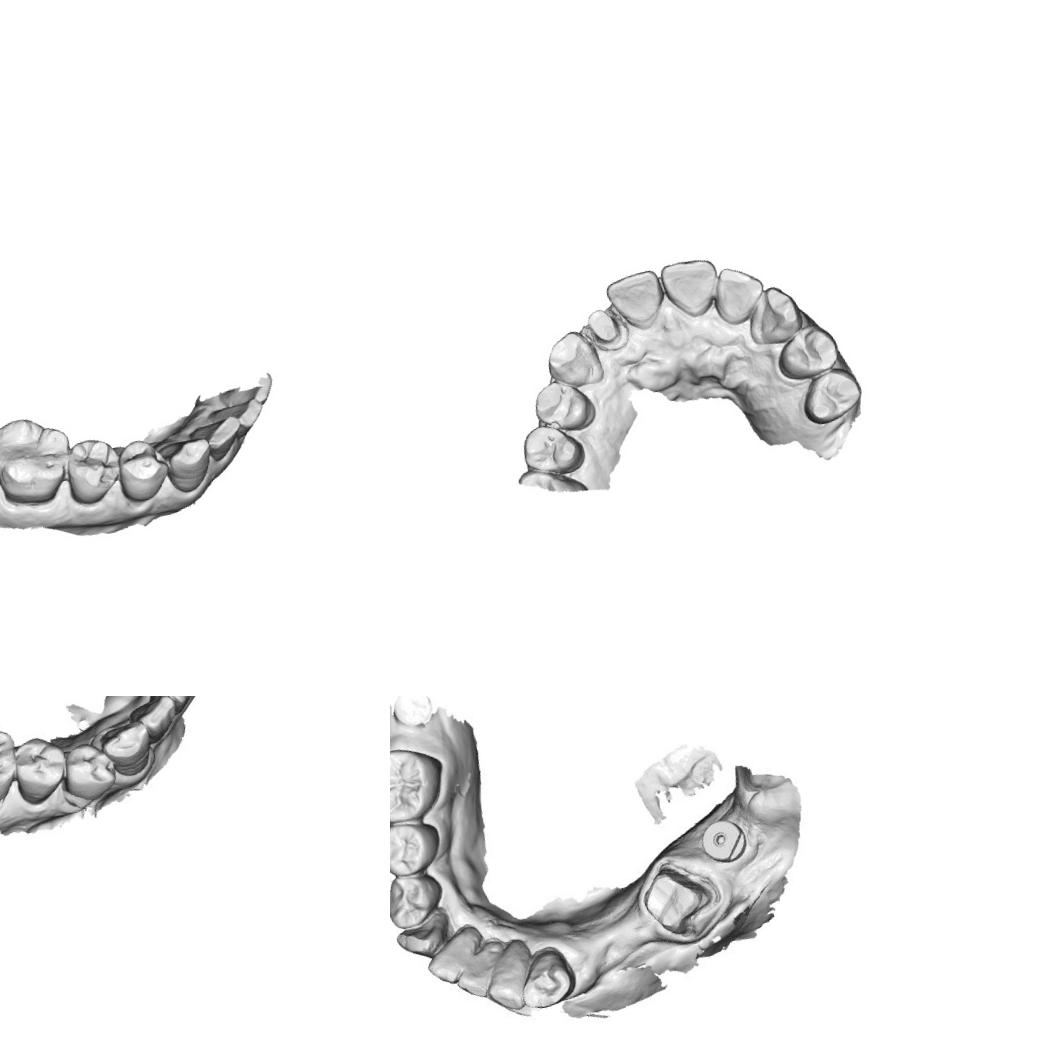canine: (740, 278, 810, 350), (538, 324, 608, 395), (515, 948, 580, 1017), (158, 432, 220, 498), (98, 718, 154, 780), (392, 920, 452, 962)
crown: (631, 852, 723, 942), (584, 303, 625, 350)
implant: (694, 809, 755, 868)
incisor: (656, 252, 728, 326), (475, 940, 540, 1018), (601, 265, 671, 336), (707, 258, 773, 328), (448, 938, 510, 1004), (422, 930, 486, 992), (188, 412, 250, 468), (126, 696, 181, 745), (204, 396, 268, 434), (152, 696, 199, 716)
molar: (0, 408, 82, 513), (390, 739, 453, 834), (0, 713, 24, 814)
premolar: (58, 432, 130, 509), (768, 317, 846, 386), (6, 732, 73, 810), (794, 362, 868, 430), (515, 416, 588, 484), (528, 372, 601, 439), (110, 434, 176, 508), (55, 737, 119, 803), (390, 813, 451, 882), (390, 868, 451, 934)
